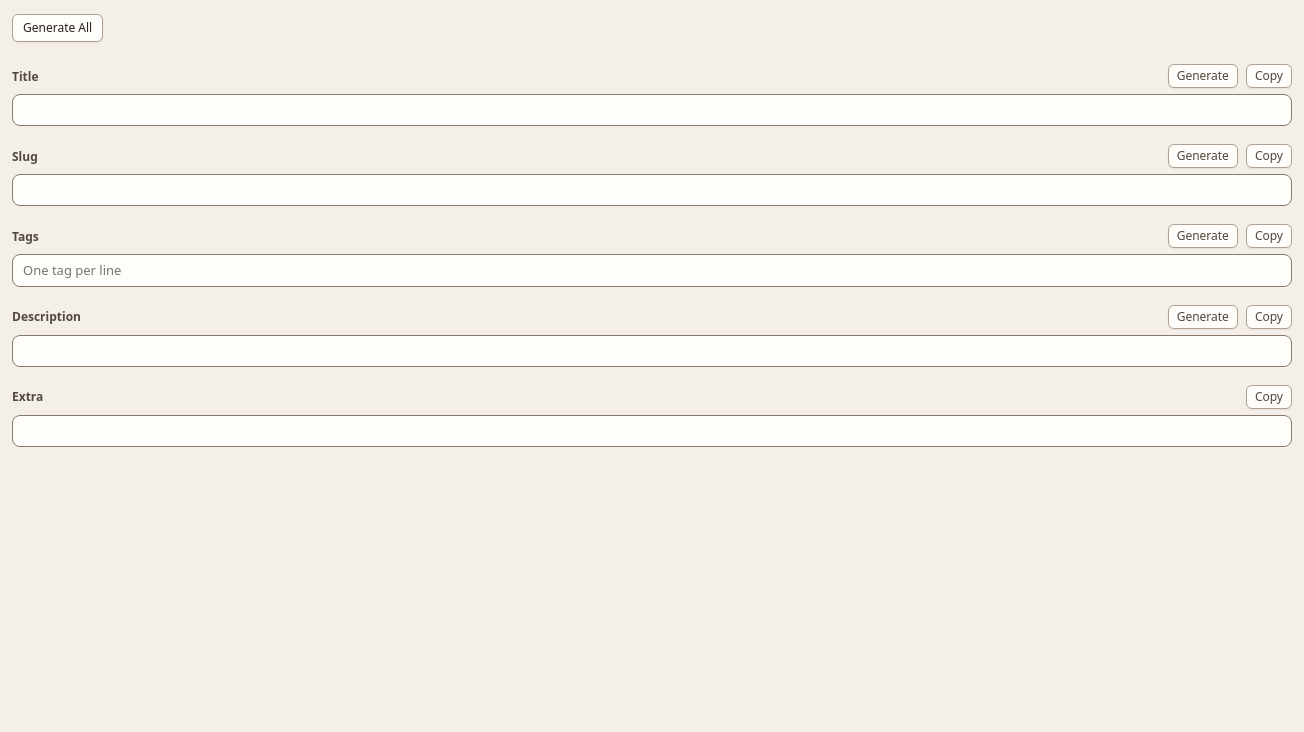
MetadataTab Generate All › reports a generated slug the store refused
This screenshot has width=1304, height=732.
Click the button with class "btn-generate-all".
click(58, 28)  # box top-left (12, 14), bottom-right (103, 42)
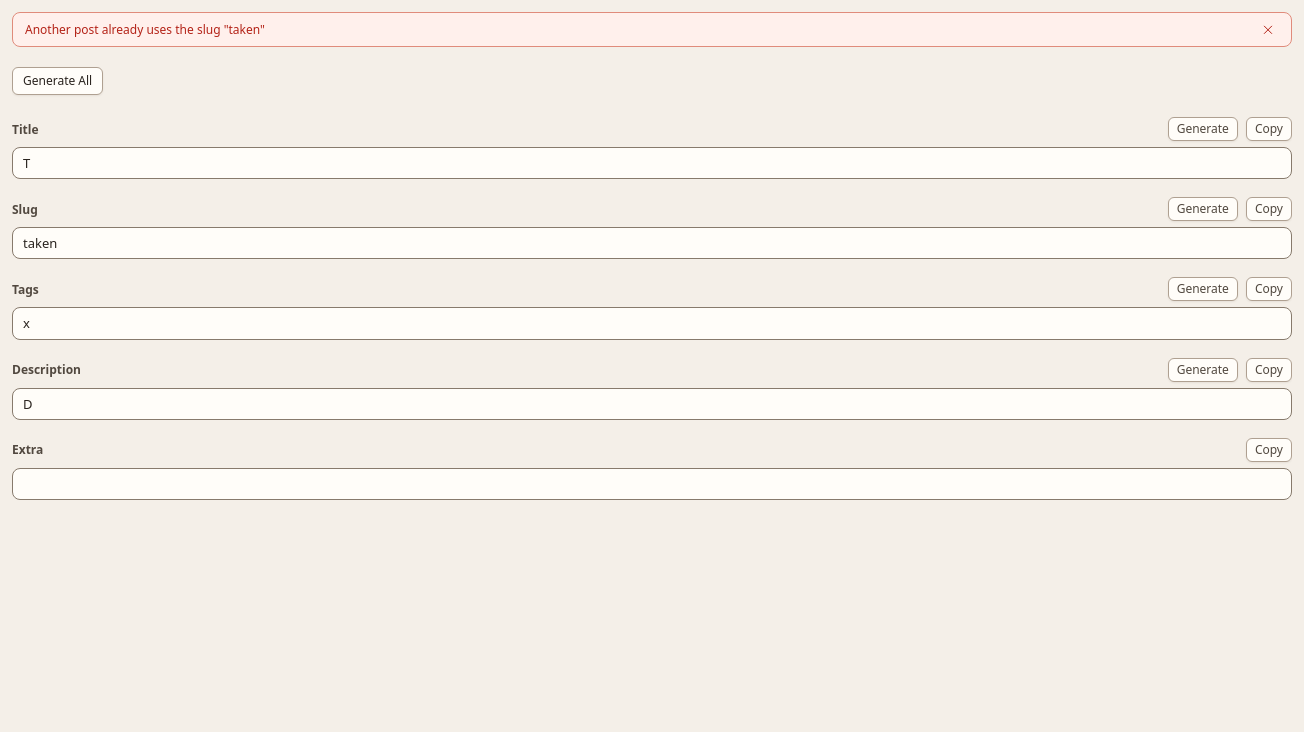
Expected: the message with class "metadata-error" shows "already uses the slug", top-left (25, 21), bottom-right (265, 38)
